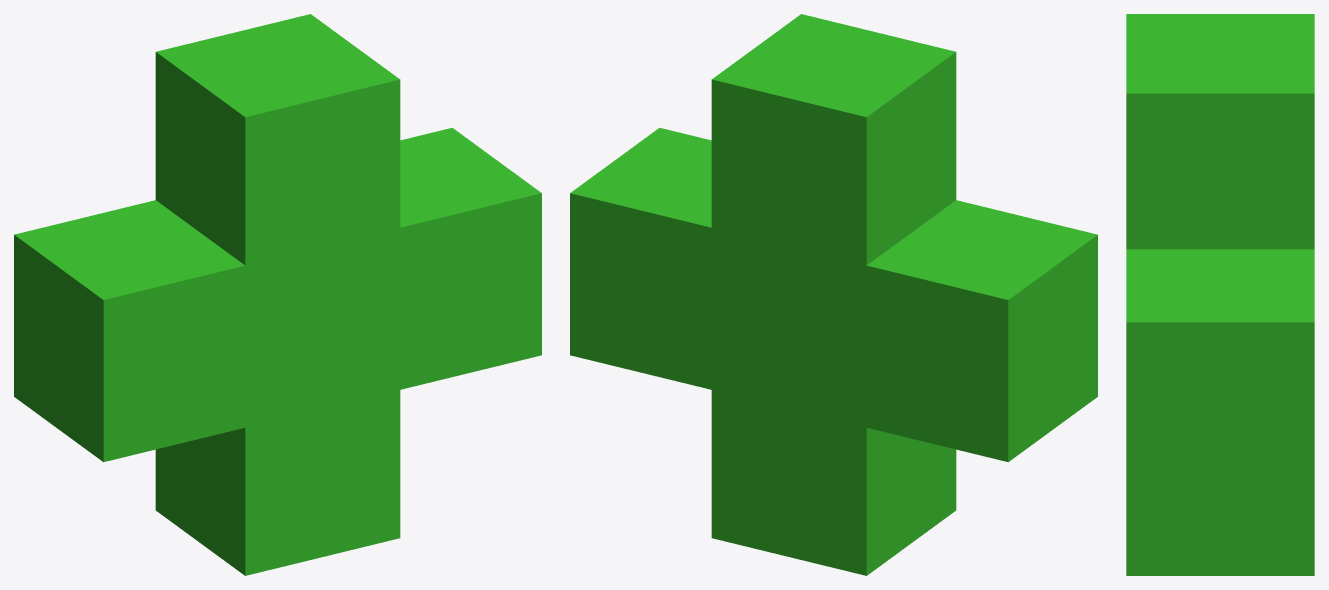
Rendered from cross.gltf.
3 renders of one model, left to right at view 1: azimuth 30°, elevation 25°; view 2: azimuth 150°, elevation 25°; view 3: azimuth 270°, elevation 25°, orthographic. The views are drawn at different scales.
Parts seen in each view (by area): view 1: cross; view 2: cross; view 3: cross.
Boxes of the visible parts, x1,y1,x2,y2 form: cross: [14, 14, 541, 575]; cross: [570, 14, 1097, 575]; cross: [1126, 14, 1314, 575].
Size of the model in its own units: 0.0566 by 0.0566 by 0.02.
